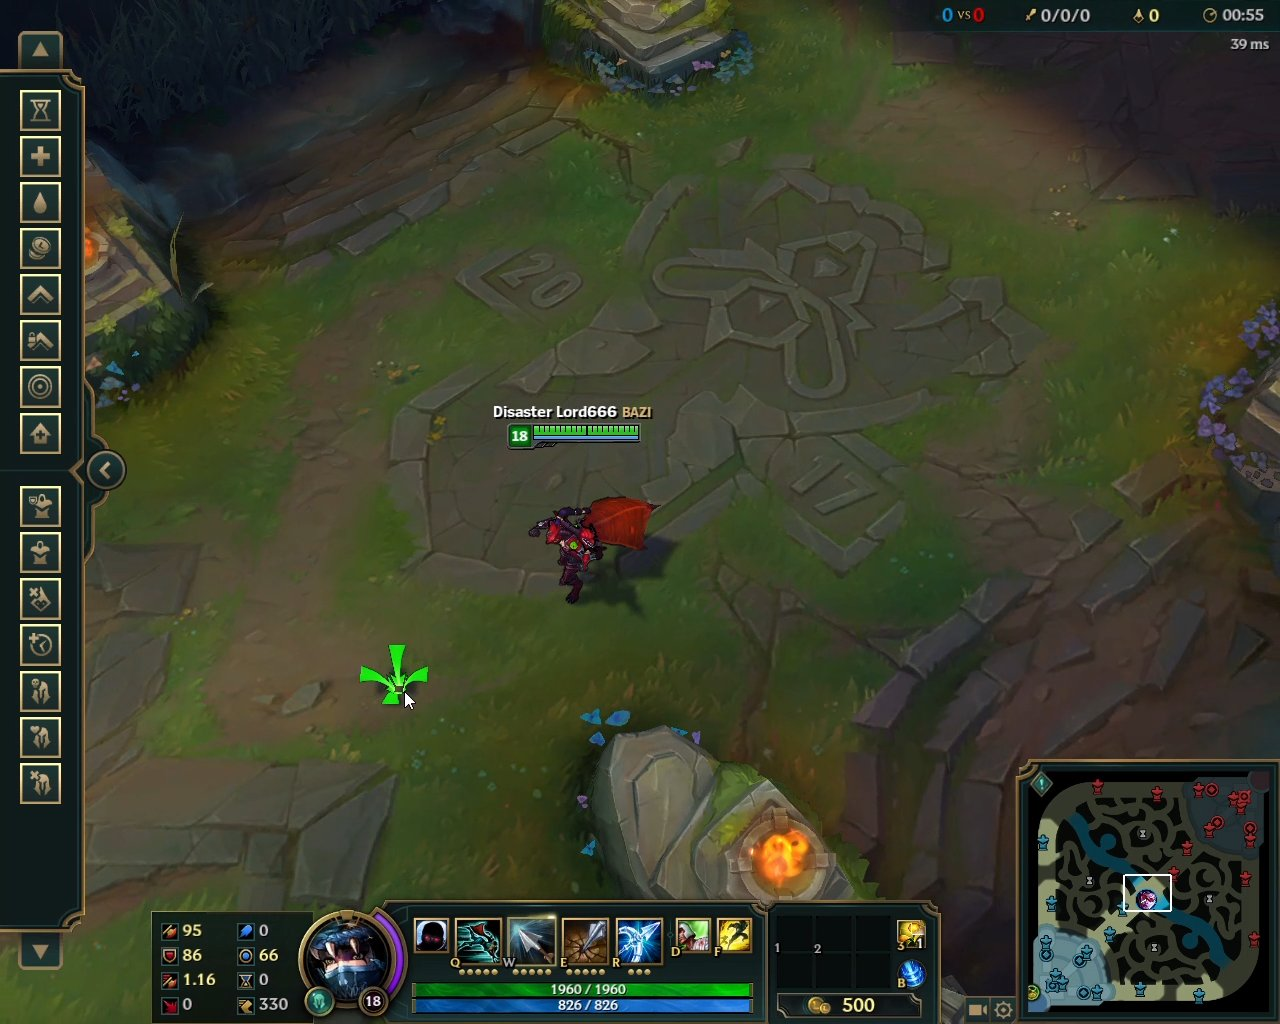Vayne: (526, 487, 662, 611)
